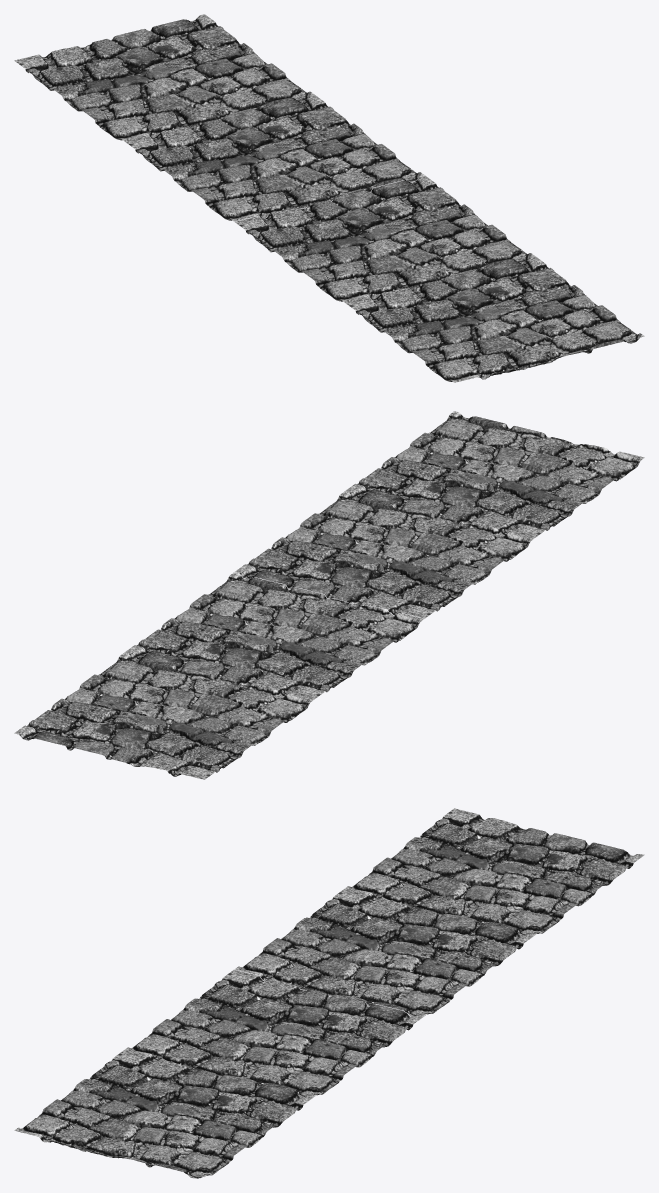
Rendered from cobblestones.dae.
3 renders of one model, top to bottom at view 1: azimuth 30°, elevation 25°; view 2: azimuth 150°, elevation 25°; view 3: azimuth 330°, elevation 25°, orthographic.
Visible parts, largest first — view 1: Plane_000; view 2: Plane_000; view 3: Plane_000.
Boxes of the visible parts, x1,y1,x2,y2 form: Plane_000: (14,14,644,382); Plane_000: (14,411,644,779); Plane_000: (14,808,644,1178).
Bounding box in the file's own units: 6.91 × 27.65 × 0.154.
1 material, 1 textured.
